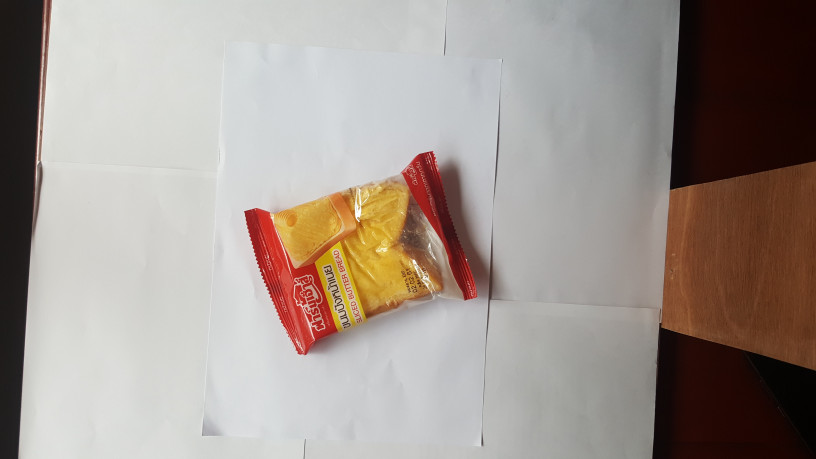farmhouse-bread-butter: (235, 154, 491, 363)
